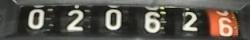digits: (143, 11, 166, 32), (215, 16, 234, 39), (65, 9, 84, 30), (104, 8, 122, 30), (27, 8, 44, 29), (181, 12, 198, 30)
